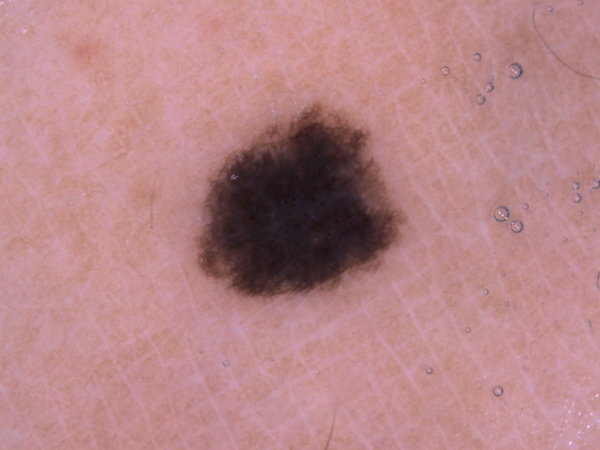Detected Lesion: (190, 97, 409, 305)
